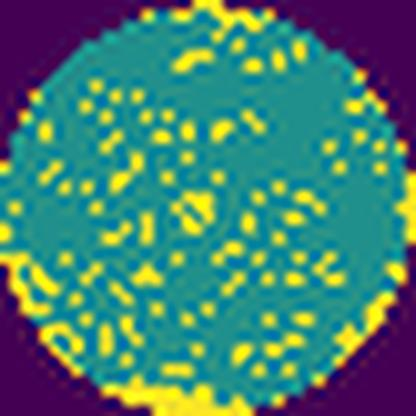Edge-Loc: (1, 250, 86, 378), (103, 378, 252, 416)
